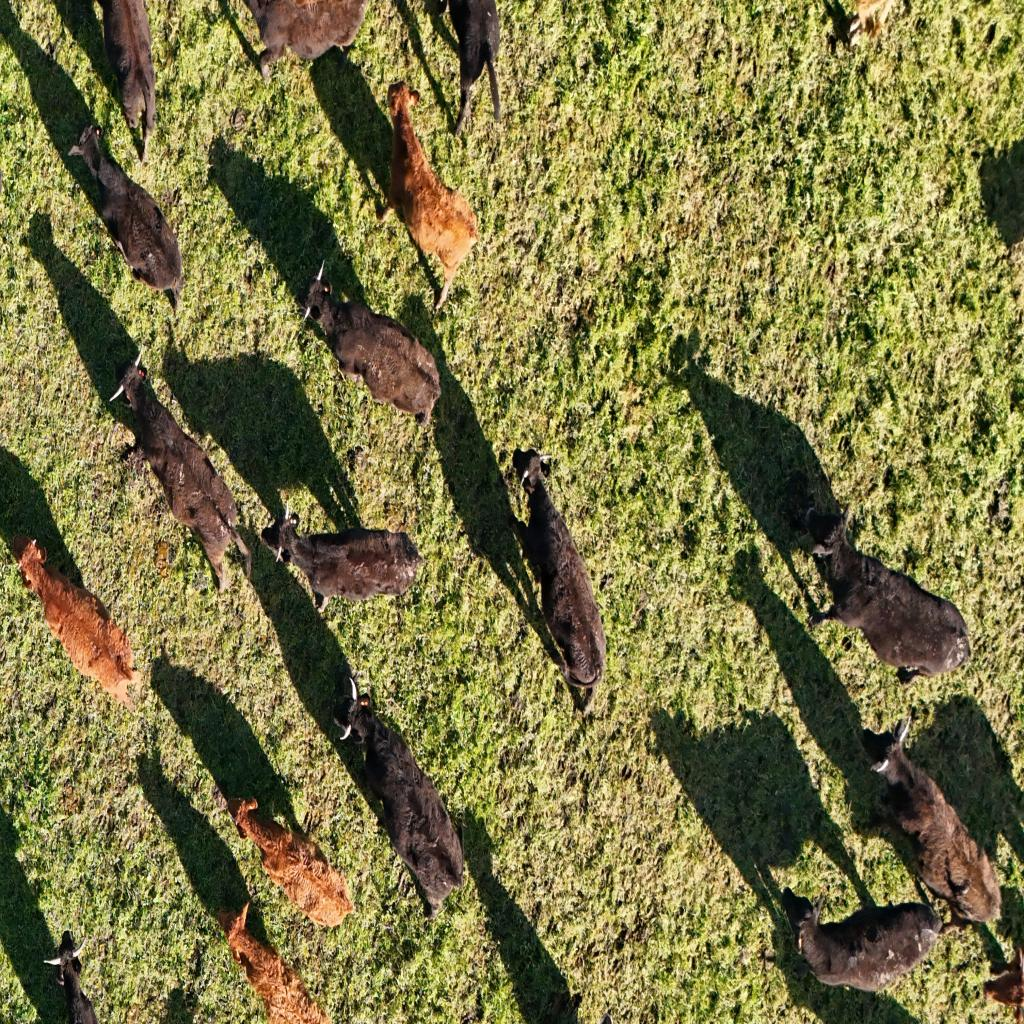cow: (111, 354, 248, 588), (857, 711, 1001, 929), (801, 504, 970, 684), (335, 674, 460, 916), (378, 73, 484, 310), (512, 449, 606, 708), (68, 124, 185, 319), (9, 534, 144, 702), (307, 270, 444, 430), (224, 787, 356, 932), (779, 881, 945, 995), (264, 507, 420, 616), (215, 898, 329, 1022), (238, 1, 375, 81), (93, 2, 158, 163), (439, 0, 502, 137), (42, 928, 108, 1022)
